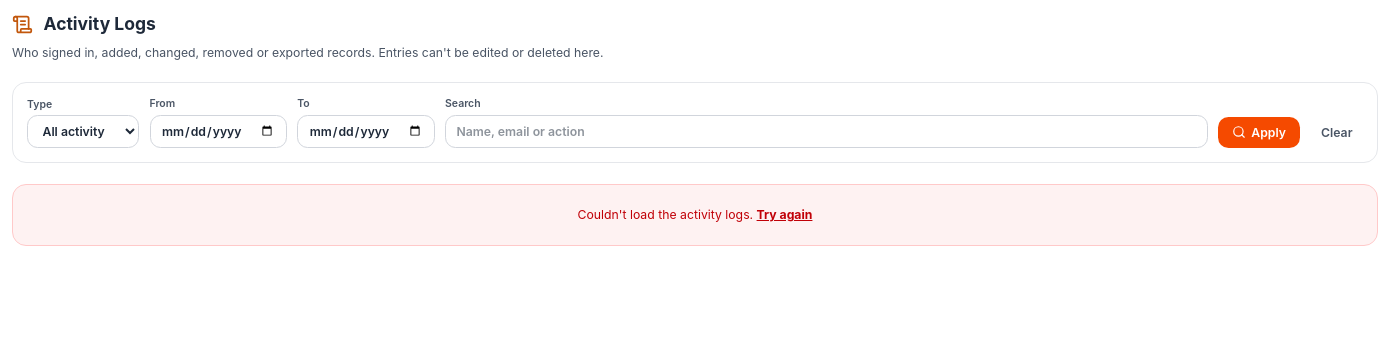
ActivityLogs panel › offers a retry when loading fails
The width and height of the screenshot is (1390, 346).
Click the button "Try again".
click(785, 215)  # box [757,206,812,224]
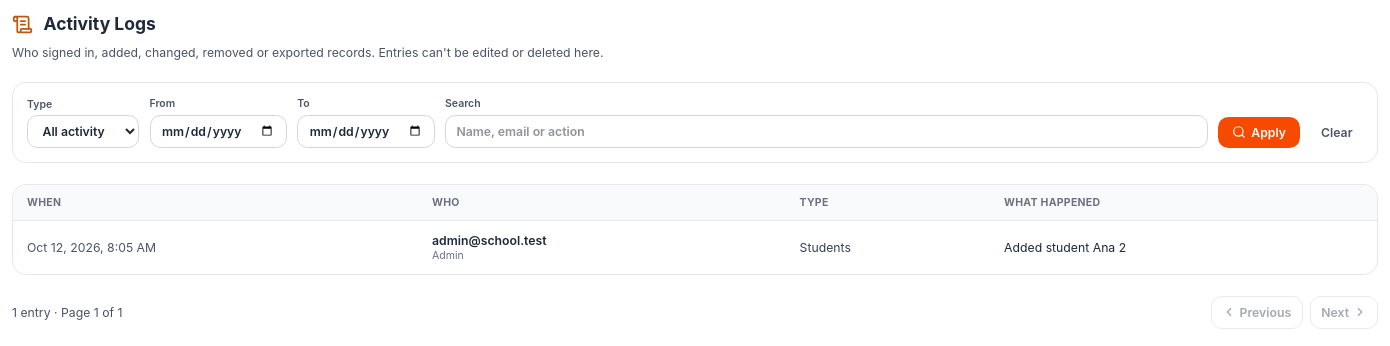
Check: the text "Added student Ana 2" is shown, box [990,220,1377,274]
